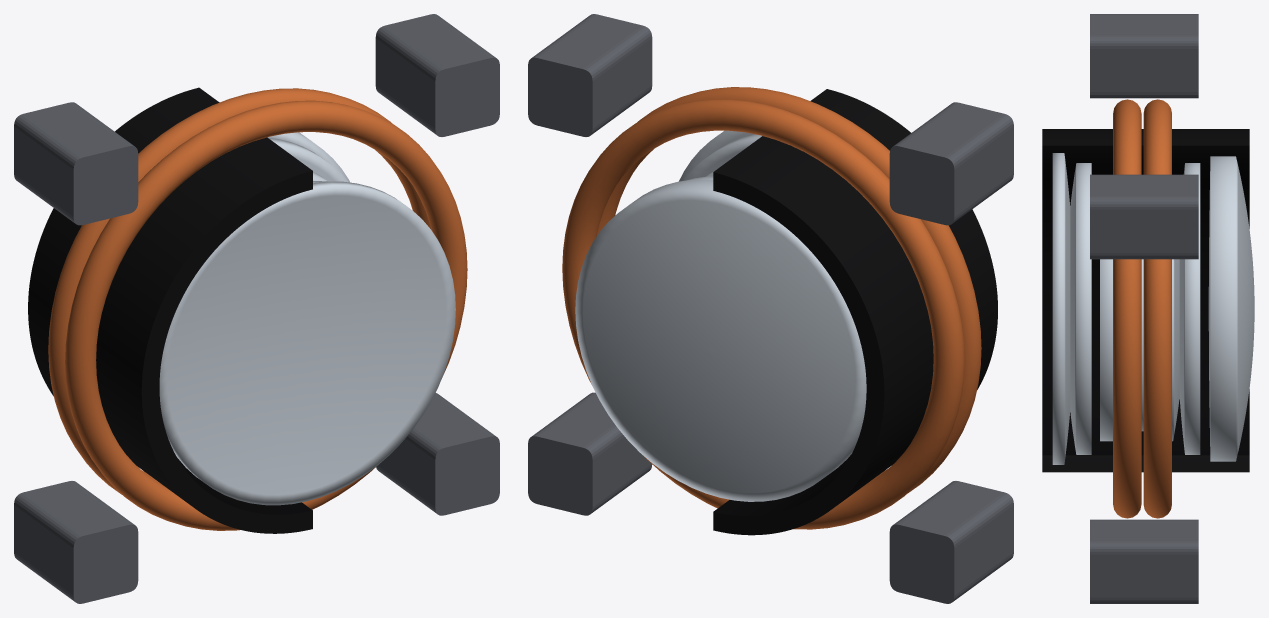
File: main-camera-lens.glb
3 renders of one model, left to right at view 1: azimuth 30°, elevation 25°; view 2: azimuth 150°, elevation 25°; view 3: azimuth 270°, elevation 25°, orthographic. The views are drawn at different scales.
Visible parts, largest first — view 1: main-camera-lens; view 2: main-camera-lens; view 3: main-camera-lens.
Part boxes in pixels (x1,y1,x2,y2): main-camera-lens: (14, 14, 499, 603); main-camera-lens: (528, 14, 1013, 603); main-camera-lens: (1042, 14, 1254, 603).
Size of the model in its own units: 0.088 by 0.088 by 0.0417.
